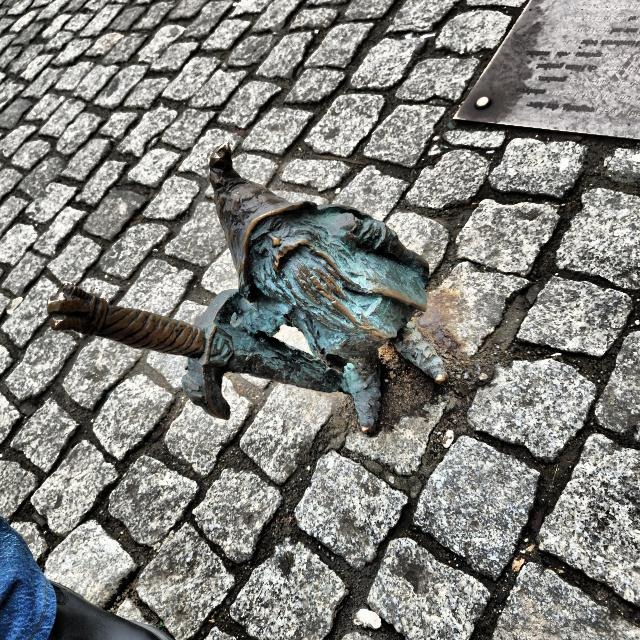Giermek_Grun-Waldek: (46, 140, 447, 438)
